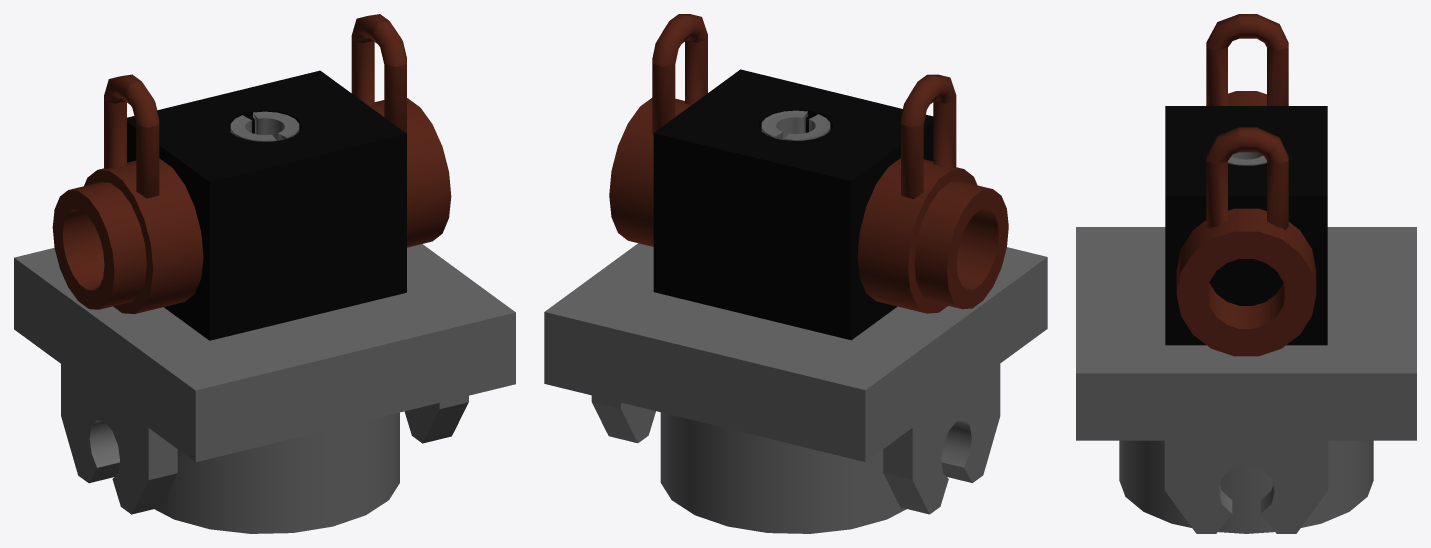
Rendered from UpgradeStationPennant.fbx.
3 views of the same model, side by side, from view 1: azimuth 30°, elevation 25°; view 2: azimuth 150°, elevation 25°; view 3: azimuth 270°, elevation 25° (orthographic). The views are drawn at different scales.
Visible parts, largest first — view 1: Duplicate21.000; view 2: Duplicate21.000; view 3: Duplicate21.000.
Boxes of the visible parts, x1,y1,x2,y2 form: Duplicate21.000: (14, 14, 515, 533); Duplicate21.000: (544, 14, 1047, 533); Duplicate21.000: (1076, 14, 1416, 533).
Size of the model in its own units: 0.1066 by 0.128 by 0.0982.
